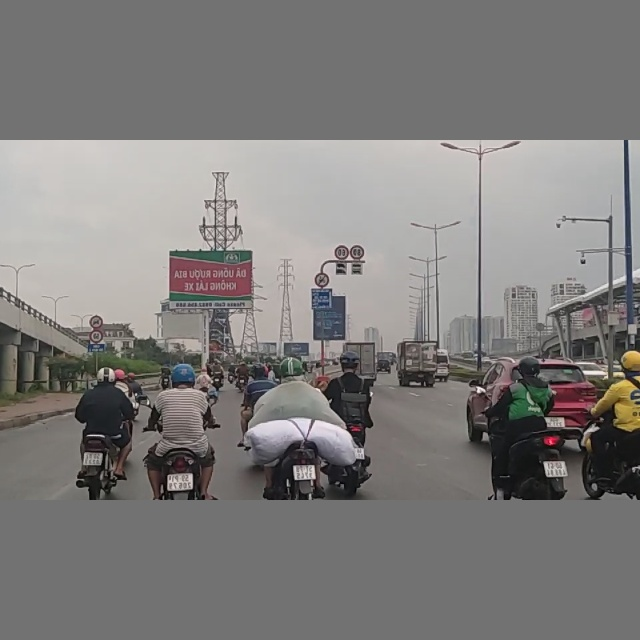P.103a: (89, 316, 103, 329)
P.104: (313, 273, 331, 286)
P.127*50: (89, 329, 103, 343)
P.127*60: (334, 245, 349, 260)
P.127*80: (351, 245, 365, 259)
